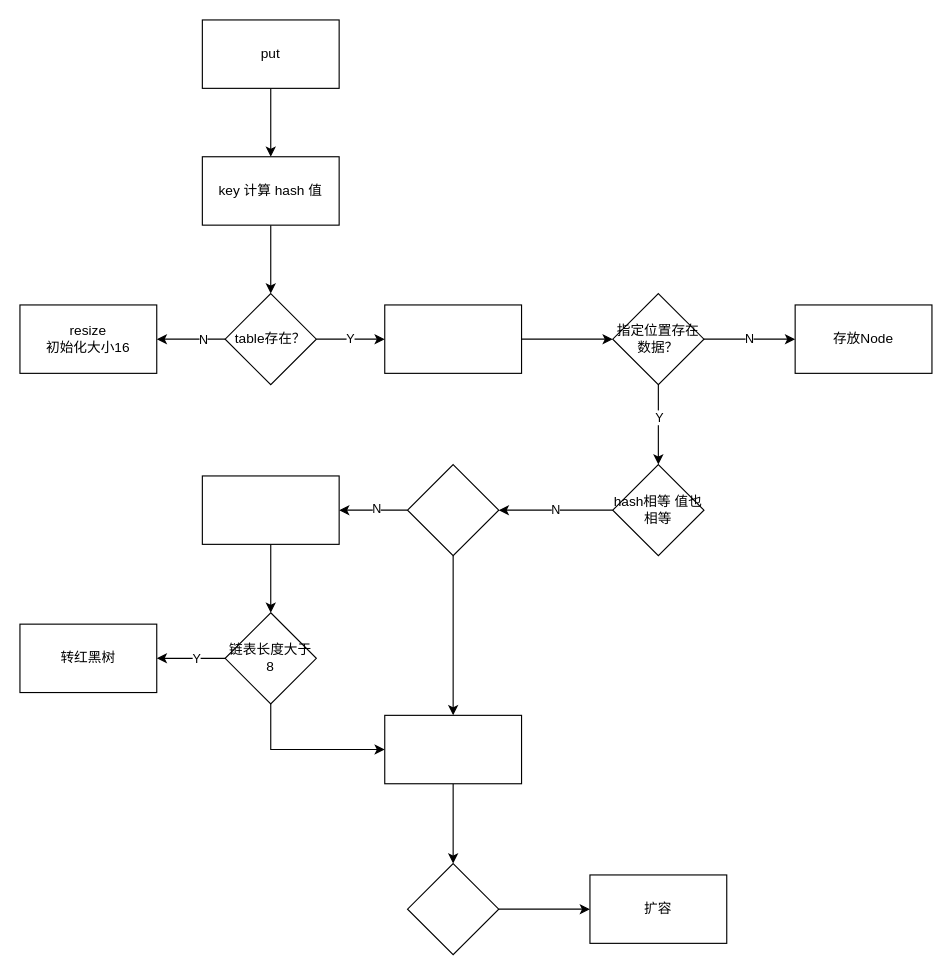
The diagram is 952 pixels wide and 975 high, and some of its shapes have lost their labels. Here are the shapes that lost their labels. From the top down, the box of each, then its label:
(384, 304, 522, 373): 计算存储位置 (n-1) & hash
(201, 475, 339, 544): 加入链表
(406, 463, 499, 556): 红黑树
(384, 714, 522, 784): 加入红黑树节点
(406, 862, 499, 955): 节点数是否大于阈值
